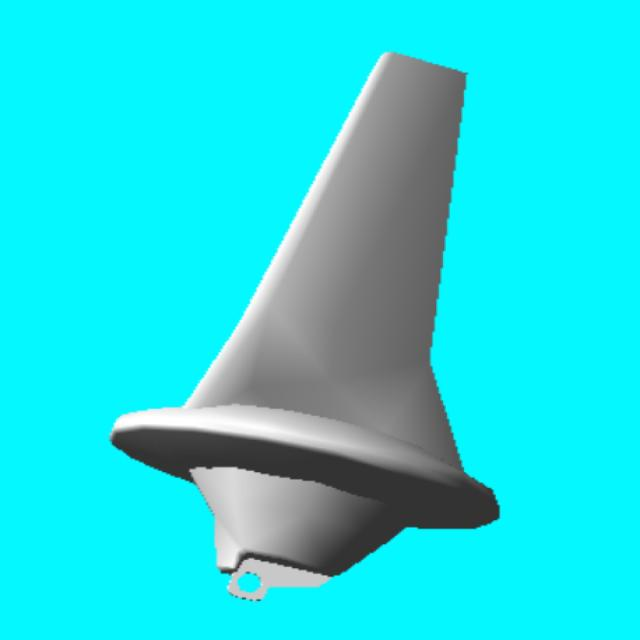WhiteBuoy: (112, 54, 498, 599)
